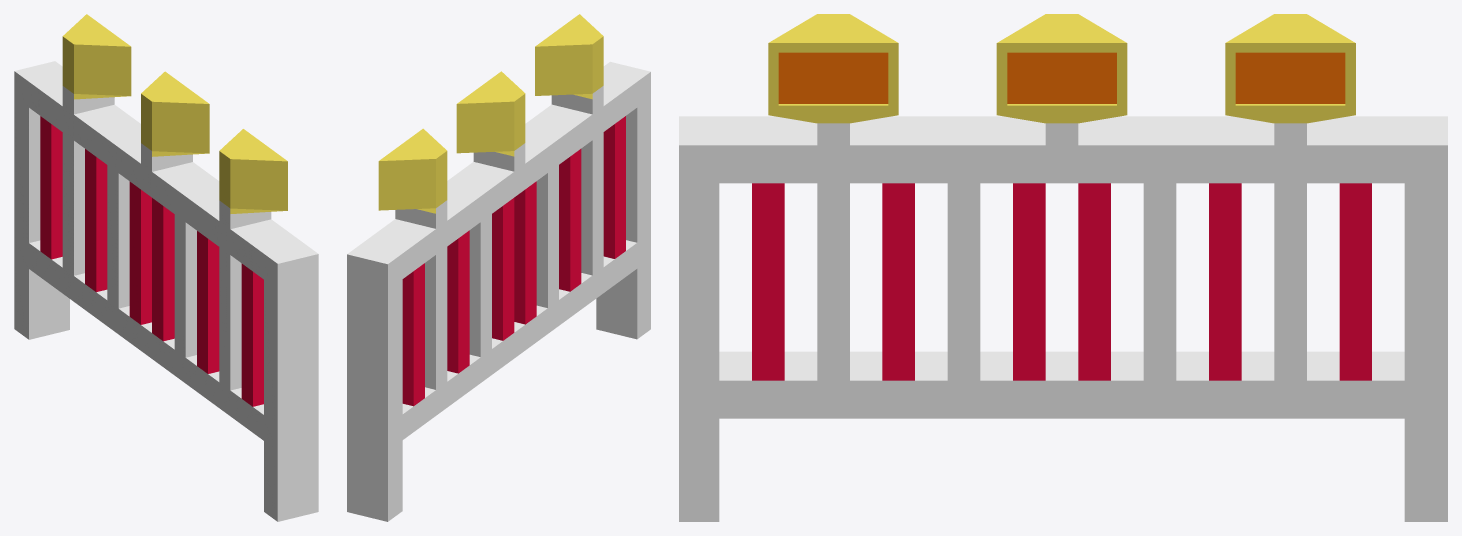
The model's file is Fence.fbx.
3 renders of one model, left to right at view 1: azimuth 30°, elevation 25°; view 2: azimuth 150°, elevation 25°; view 3: azimuth 270°, elevation 25°, orthographic. The views are drawn at different scales.
Parts seen in each view (by area): view 1: Fence; view 2: Fence; view 3: Fence.
Part boxes in pixels (x1,y1,x2,y2): Fence: (14,14,318,521); Fence: (347,14,650,521); Fence: (679,14,1447,521).
Size of the model in its own units: 1.85 by 0.1657 by 1.27.
